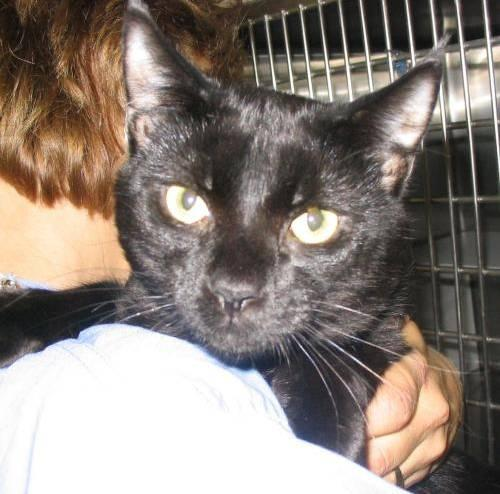cat: (115, 2, 499, 493)
